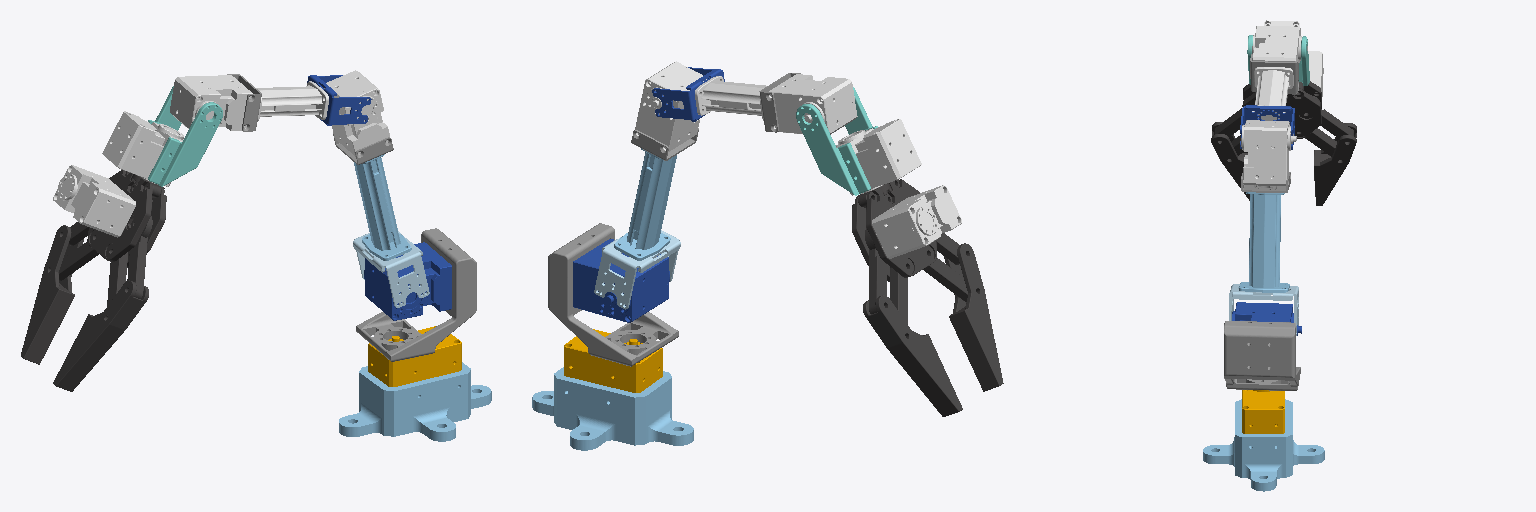
URDF robot description (my_robot):
<?xml version="1.0" ?>
<robot name="my_robot">
  <link name="link0">
    <inertial>
      <origin xyz="-0.000309241 1.065e-09 0.0263888" rpy="0 0 0"/>
      <mass value="0.264096"/>
      <inertia ixx="0.000113185" ixy="-3e-12" ixz="1.00015e-06" iyy="0.000175727" iyz="8e-12" izz="0.000147128"/>
    </inertial>
    <visual>
      <origin xyz="-0.0155 -0 0.0345" rpy="0 -0 1.5708"/>
      <geometry>
        <mesh filename="assets/dummy_dc13_idle.stl"/>
      </geometry>
      <material name="dummy_dc13_idle_material">
        <color rgba="0.980392 0.713725 0.00392157 1"/>
      </material>
    </visual>
    <collision>
      <origin xyz="-0.0155 -0 0.0345" rpy="0 -0 1.5708"/>
      <geometry>
        <mesh filename="assets/dummy_dc13_idle.stl"/>
      </geometry>
    </collision>
    <visual>
      <origin xyz="-0.0155 0 0.0345" rpy="0 -0 1.5708"/>
      <geometry>
        <mesh filename="assets/part_2.stl"/>
      </geometry>
      <material name="part_2_material">
        <color rgba="0.615686 0.811765 0.929412 1"/>
      </material>
    </visual>
    <collision>
      <origin xyz="-0.0155 0 0.0345" rpy="0 -0 1.5708"/>
      <geometry>
        <mesh filename="assets/part_2.stl"/>
      </geometry>
    </collision>
  </link>
  <link name="link1">
    <inertial>
      <origin xyz="-0.0186967 -0.000784302 -0.0430186" rpy="0 0 0"/>
      <mass value="0.212381"/>
      <inertia ixx="8.79949e-05" ixy="-2.86541e-06" ixz="-8.1322e-06" iyy="0.000118099" iyz="-2.55396e-07" izz="0.000120043"/>
    </inertial>
    <visual>
      <origin xyz="0 -0 0.0245" rpy="-3.14159 -0 1.64104"/>
      <geometry>
        <mesh filename="assets/part_3.stl"/>
      </geometry>
      <material name="part_3_material">
        <color rgba="0.647059 0.647059 0.647059 1"/>
      </material>
    </visual>
    <collision>
      <origin xyz="0 -0 0.0245" rpy="-3.14159 -0 1.64104"/>
      <geometry>
        <mesh filename="assets/part_3.stl"/>
      </geometry>
    </collision>
    <visual>
      <origin xyz="0 -0 0.0245" rpy="-3.14159 -0 1.64104"/>
      <geometry>
        <mesh filename="assets/dummy_dc13_idle__2.stl"/>
      </geometry>
      <material name="dummy_dc13_idle_2_material">
        <color rgba="0.231373 0.380392 0.705882 1"/>
      </material>
    </visual>
    <collision>
      <origin xyz="0 -0 0.0245" rpy="-3.14159 -0 1.64104"/>
      <geometry>
        <mesh filename="assets/dummy_dc13_idle__2.stl"/>
      </geometry>
    </collision>
  </link>
  <link name="link2">
    <inertial>
      <origin xyz="0.0242489 -0.110606 0.0241592" rpy="0 0 0"/>
      <mass value="0.122875"/>
      <inertia ixx="0.000264139" ixy="5.25439e-05" ixz="2.60031e-07" iyy="3.60144e-05" iyz="-1.18207e-06" izz="0.000266476"/>
    </inertial>
    <visual>
      <origin xyz="0.0281605 -0.128449 0.024544" rpy="-1.78679 1.5708 0"/>
      <geometry>
        <mesh filename="assets/fr12_s102_k.stl"/>
      </geometry>
      <material name="fr12_s102_k_material">
        <color rgba="0.647059 0.647059 0.647059 1"/>
      </material>
    </visual>
    <collision>
      <origin xyz="0.0281605 -0.128449 0.024544" rpy="-1.78679 1.5708 0"/>
      <geometry>
        <mesh filename="assets/fr12_s102_k.stl"/>
      </geometry>
    </collision>
    <visual>
      <origin xyz="0.0326611 -0.148961 0.004544" rpy="-3.14159 -0 0.215989"/>
      <geometry>
        <mesh filename="assets/dummy_dc12.stl"/>
      </geometry>
      <material name="dummy_dc12_material">
        <color rgba="0.917647 0.917647 0.917647 1"/>
      </material>
    </visual>
    <collision>
      <origin xyz="0.0326611 -0.148961 0.004544" rpy="-3.14159 -0 0.215989"/>
      <geometry>
        <mesh filename="assets/dummy_dc12.stl"/>
      </geometry>
    </collision>
    <visual>
      <origin xyz="0.0299821 -0.136752 0.024544" rpy="-0.215989 1.5708 0"/>
      <geometry>
        <mesh filename="assets/part_2__2.stl"/>
      </geometry>
      <material name="part_2_2_material">
        <color rgba="0.615686 0.811765 0.929412 1"/>
      </material>
    </visual>
    <collision>
      <origin xyz="0.0299821 -0.136752 0.024544" rpy="-0.215989 1.5708 0"/>
      <geometry>
        <mesh filename="assets/part_2__2.stl"/>
      </geometry>
    </collision>
    <visual>
      <origin xyz="0 -0 0.0245" rpy="2.9256 1.5708 0"/>
      <geometry>
        <mesh filename="assets/fr13_h101_k.stl"/>
      </geometry>
      <material name="fr13_h101_k_material">
        <color rgba="0.768627 0.886275 0.952941 1"/>
      </material>
    </visual>
    <collision>
      <origin xyz="0 -0 0.0245" rpy="2.9256 1.5708 0"/>
      <geometry>
        <mesh filename="assets/fr13_h101_k.stl"/>
      </geometry>
    </collision>
  </link>
  <link name="link3">
    <inertial>
      <origin xyz="0.0971416 0 0.0185718" rpy="0 0 0"/>
      <mass value="0.108493"/>
      <inertia ixx="1.79972e-05" ixy="0" ixz="6.83803e-07" iyy="0.000118945" iyz="-0" izz="0.000113634"/>
    </inertial>
    <visual>
      <origin xyz="0.1025 0 0.019" rpy="3.14159 1.5708 0"/>
      <geometry>
        <mesh filename="assets/part_2__3.stl"/>
      </geometry>
      <material name="part_2_3_material">
        <color rgba="0.917647 0.917647 0.917647 1"/>
      </material>
    </visual>
    <collision>
      <origin xyz="0.1025 0 0.019" rpy="3.14159 1.5708 0"/>
      <geometry>
        <mesh filename="assets/part_2__3.stl"/>
      </geometry>
    </collision>
    <visual>
      <origin xyz="0.1235 0 -0.001" rpy="3.14159 -0 1.5708"/>
      <geometry>
        <mesh filename="assets/dummy_dc12.stl"/>
      </geometry>
      <material name="dummy_dc12_2_material">
        <color rgba="0.917647 0.917647 0.917647 1"/>
      </material>
    </visual>
    <collision>
      <origin xyz="0.1235 0 -0.001" rpy="3.14159 -0 1.5708"/>
      <geometry>
        <mesh filename="assets/dummy_dc12.stl"/>
      </geometry>
    </collision>
    <visual>
      <origin xyz="-0 0 0.019" rpy="1.5708 1.5708 0"/>
      <geometry>
        <mesh filename="assets/fr12_h101_k.stl"/>
      </geometry>
      <material name="fr12_h101_k_material">
        <color rgba="0.231373 0.380392 0.705882 1"/>
      </material>
    </visual>
    <collision>
      <origin xyz="-0 0 0.019" rpy="1.5708 1.5708 0"/>
      <geometry>
        <mesh filename="assets/fr12_h101_k.stl"/>
      </geometry>
    </collision>
    <visual>
      <origin xyz="0.1025 0 0.019" rpy="3.14159 1.5708 0"/>
      <geometry>
        <mesh filename="assets/fr12_s102_k.stl"/>
      </geometry>
      <material name="fr12_s102_k_2_material">
        <color rgba="0.647059 0.647059 0.647059 1"/>
      </material>
    </visual>
    <collision>
      <origin xyz="0.1025 0 0.019" rpy="3.14159 1.5708 0"/>
      <geometry>
        <mesh filename="assets/fr12_s102_k.stl"/>
      </geometry>
    </collision>
  </link>
  <link name="link4">
    <inertial>
      <origin xyz="0.0309565 0.0323173 0.01895" rpy="0 0 0"/>
      <mass value="0.0954853"/>
      <inertia ixx="2.3308e-05" ixy="-1.60309e-06" ixz="1.4e-11" iyy="3.0851e-05" iyz="5e-12" izz="3.31782e-05"/>
    </inertial>
    <visual>
      <origin xyz="0.0297344 0.0557955 0.018825" rpy="1.21601 -1.5708 0"/>
      <geometry>
        <mesh filename="assets/j4_j5_mirrored.stl"/>
      </geometry>
      <material name="j4_j5_mirrored_material">
        <color rgba="0.537255 0.854902 0.827451 1"/>
      </material>
    </visual>
    <collision>
      <origin xyz="0.0297344 0.0557955 0.018825" rpy="1.21601 -1.5708 0"/>
      <geometry>
        <mesh filename="assets/j4_j5_mirrored.stl"/>
      </geometry>
    </collision>
    <visual>
      <origin xyz="0.0297344 0.0557955 -0.027075" rpy="1.21601 -1.5708 0"/>
      <geometry>
        <mesh filename="assets/j4_j5_mirrored__2.stl"/>
      </geometry>
      <material name="j4_j5_mirrored_2_material">
        <color rgba="0.537255 0.854902 0.827451 1"/>
      </material>
    </visual>
    <collision>
      <origin xyz="0.0297344 0.0557955 -0.027075" rpy="1.21601 -1.5708 0"/>
      <geometry>
        <mesh filename="assets/j4_j5_mirrored__2.stl"/>
      </geometry>
    </collision>
    <visual>
      <origin xyz="0.0297344 0.0557955 0.01895" rpy="-1.21601 1.5708 0"/>
      <geometry>
        <mesh filename="assets/dummy_dc12.stl"/>
      </geometry>
      <material name="dummy_dc12_3_material">
        <color rgba="0.917647 0.917647 0.917647 1"/>
      </material>
    </visual>
    <collision>
      <origin xyz="0.0297344 0.0557955 0.01895" rpy="-1.21601 1.5708 0"/>
      <geometry>
        <mesh filename="assets/dummy_dc12.stl"/>
      </geometry>
    </collision>
  </link>
  <link name="link5">
    <inertial>
      <origin xyz="0.000326575 -0.00076982 -0.0297451" rpy="0 0 0"/>
      <mass value="0.0294484"/>
      <inertia ixx="1.54147e-05" ixy="-5.6056e-08" ixz="2.451e-09" iyy="9.74052e-06" iyz="-5.779e-09" izz="8.03326e-06"/>
    </inertial>
    <visual>
      <origin xyz="0 -0 -0" rpy="-3.14159 -0 1.59462"/>
      <geometry>
        <mesh filename="assets/p01_05_base.stl"/>
      </geometry>
      <material name="p01_05_base_material">
        <color rgba="0.32549 0.317647 0.317647 1"/>
      </material>
    </visual>
    <collision>
      <origin xyz="0 -0 -0" rpy="-3.14159 -0 1.59462"/>
      <geometry>
        <mesh filename="assets/p01_05_base.stl"/>
      </geometry>
    </collision>
    <visual>
      <origin xyz="-4.99858e-05 -1.19092e-06 -0" rpy="-3.14159 -0 1.59462"/>
      <geometry>
        <mesh filename="assets/p01_07_body.stl"/>
      </geometry>
      <material name="p01_07_body_material">
        <color rgba="0.32549 0.317647 0.317647 1"/>
      </material>
    </visual>
    <collision>
      <origin xyz="-4.99858e-05 -1.19092e-06 -0" rpy="-3.14159 -0 1.59462"/>
      <geometry>
        <mesh filename="assets/p01_07_body.stl"/>
      </geometry>
    </collision>
    <visual>
      <origin xyz="4.99858e-05 1.19092e-06 -0" rpy="-3.14159 -0 1.59462"/>
      <geometry>
        <mesh filename="assets/p01_06_body_motor.stl"/>
      </geometry>
      <material name="p01_06_body_motor_material">
        <color rgba="0.32549 0.317647 0.317647 1"/>
      </material>
    </visual>
    <collision>
      <origin xyz="4.99858e-05 1.19092e-06 -0" rpy="-3.14159 -0 1.59462"/>
      <geometry>
        <mesh filename="assets/p01_06_body_motor.stl"/>
      </geometry>
    </collision>
    <visual>
      <origin xyz="-0.0234485 0.0269491 -0.09265" rpy="3.14159 -0 0.0238207"/>
      <geometry>
        <mesh filename="assets/dummy_dc12__2.stl"/>
      </geometry>
      <material name="dummy_dc12_4_material">
        <color rgba="0.917647 0.917647 0.917647 1"/>
      </material>
    </visual>
    <collision>
      <origin xyz="-0.0234485 0.0269491 -0.09265" rpy="3.14159 -0 0.0238207"/>
      <geometry>
        <mesh filename="assets/dummy_dc12__2.stl"/>
      </geometry>
    </collision>
  </link>
  <link name="link6">
    <inertial>
      <origin xyz="-0.00148139 -0.0131112 -0.00445993" rpy="0 0 0"/>
      <mass value="0.00659741"/>
      <inertia ixx="2.745e-06" ixy="1.87617e-07" ixz="5.675e-09" iyy="2.4936e-07" iyz="5.7184e-08" izz="2.90928e-06"/>
    </inertial>
    <visual>
      <origin xyz="-0.019 0.03 -0.00385" rpy="1.5708 -0 -0"/>
      <geometry>
        <mesh filename="assets/p01_01_gearlink_motor.stl"/>
      </geometry>
      <material name="p01_01_gearlink_motor_material">
        <color rgba="0.32549 0.317647 0.317647 1"/>
      </material>
    </visual>
    <collision>
      <origin xyz="-0.019 0.03 -0.00385" rpy="1.5708 -0 -0"/>
      <geometry>
        <mesh filename="assets/p01_01_gearlink_motor.stl"/>
      </geometry>
    </collision>
  </link>
  <joint name="joint_6" type="revolute">
    <origin xyz="0.00349633 0.0190887 -0.03" rpy="1.5708 -0.663391 1.59462"/>
    <parent link="link5"/>
    <child link="link6"/>
    <axis xyz="0 0 1"/>
    <limit effort="10" velocity="10" lower="-0.488858" upper="0.907405"/>
  </joint>
  <link name="link7">
    <inertial>
      <origin xyz="-0.00711347 0.0116656 -0.00388399" rpy="0 0 0"/>
      <mass value="0.00640183"/>
      <inertia ixx="1.57052e-06" ixy="1.237e-06" ixz="-8.3e-11" iyy="1.34561e-06" iyz="-4.52e-10" izz="2.86735e-06"/>
    </inertial>
    <visual>
      <origin xyz="0.033444 -0.0119372 -0.00385" rpy="-1.5708 -0 0.663391"/>
      <geometry>
        <mesh filename="assets/p01_02_gearlink.stl"/>
      </geometry>
      <material name="p01_02_gearlink_material">
        <color rgba="0.32549 0.317647 0.317647 1"/>
      </material>
    </visual>
    <collision>
      <origin xyz="0.033444 -0.0119372 -0.00385" rpy="-1.5708 -0 0.663391"/>
      <geometry>
        <mesh filename="assets/p01_02_gearlink.stl"/>
      </geometry>
    </collision>
  </link>
  <joint name="joint_6_mimic_gear" type="revolute">
    <origin xyz="-0.00349633 -0.0190887 -0.03" rpy="-1.5708 -0 1.59462"/>
    <parent link="link5"/>
    <child link="link7"/>
    <axis xyz="0 0 1"/>
    <limit effort="10" velocity="10" lower="-3.141592653589793" upper="3.141592653589793"/>
    <mimic joint="joint_6" multiplier="1.0"/>
  </joint>
  <link name="link9">
    <inertial>
      <origin xyz="0.0153948 -0.0196977 -0.00385" rpy="0 0 0"/>
      <mass value="0.00411112"/>
      <inertia ixx="7.03097e-07" ixy="5.06875e-07" ixz="-0" iyy="4.50699e-07" iyz="-0" izz="1.11342e-06"/>
    </inertial>
    <visual>
      <origin xyz="0.0746144 -0.0751704 -0.00385" rpy="1.5708 -0 -2.4782"/>
      <geometry>
        <mesh filename="assets/p01_03_link.stl"/>
      </geometry>
      <material name="p01_03_link_material">
        <color rgba="0.32549 0.317647 0.317647 1"/>
      </material>
    </visual>
    <collision>
      <origin xyz="0.0746144 -0.0751704 -0.00385" rpy="1.5708 -0 -2.4782"/>
      <geometry>
        <mesh filename="assets/p01_03_link.stl"/>
      </geometry>
    </collision>
  </link>
  <link name="link10">
    <inertial>
      <origin xyz="0.0182041 -0.0092209 0.004" rpy="0 0 0"/>
      <mass value="0.0165615"/>
      <inertia ixx="3.28447e-06" ixy="3.65718e-06" ixz="-0" iyy="6.3257e-06" iyz="0" izz="8.887e-06"/>
    </inertial>
    <visual>
      <origin xyz="-0.047608 0.0953133 0.004" rpy="-1.5708 0 -2.4782"/>
      <geometry>
        <mesh filename="assets/p01_04_finger.stl"/>
      </geometry>
      <material name="p01_04_finger_material">
        <color rgba="0.32549 0.317647 0.317647 1"/>
      </material>
    </visual>
    <collision>
      <origin xyz="-0.047608 0.0953133 0.004" rpy="-1.5708 0 -2.4782"/>
      <geometry>
        <mesh filename="assets/p01_04_finger.stl"/>
      </geometry>
    </collision>
  </link>
  <link name="link6_2">
    <inertial>
      <origin xyz="-0.00148139 0.0368888 -0.00445993" rpy="0 0 0"/>
      <mass value="0.00659741"/>
      <inertia ixx="2.745e-06" ixy="1.87617e-07" ixz="5.675e-09" iyy="2.4936e-07" iyz="5.7184e-08" izz="2.90928e-06"/>
    </inertial>
    <visual>
      <origin xyz="-0.019 0.08 -0.00385" rpy="1.5708 -0 -0"/>
      <geometry>
        <mesh filename="assets/p01_01_gearlink_motor.stl"/>
      </geometry>
      <material name="p01_01_gearlink_motor_2_material">
        <color rgba="0.32549 0.317647 0.317647 1"/>
      </material>
    </visual>
    <collision>
      <origin xyz="-0.019 0.08 -0.00385" rpy="1.5708 -0 -0"/>
      <geometry>
        <mesh filename="assets/p01_01_gearlink_motor.stl"/>
      </geometry>
    </collision>
  </link>
  <joint name="joint_6_mimic_L2" type="revolute">
    <origin xyz="-0.0206236 0.0158325 0" rpy="3.14159 -0 3.14159"/>
    <parent link="link10"/>
    <child link="link6_2"/>
    <axis xyz="0 0 1"/>
    <limit effort="10" velocity="10" lower="-3.141592653589793" upper="3.141592653589793"/>
  </joint>
  <joint name="joint_6_mimic_L3" type="revolute">
    <origin xyz="0.0307896 -0.0393954 -0" rpy="3.14159 -0 -2.4782"/>
    <parent link="link9"/>
    <child link="link10"/>
    <axis xyz="0 0 1"/>
    <limit effort="10" velocity="10" lower="-3.141592653589793" upper="3.141592653589793"/>
  </joint>
  <joint name="joint_6_mimic_L1" type="revolute">
    <origin xyz="0.00365115 0.0125905 -0.0551744" rpy="1.5708 -0 1.59462"/>
    <parent link="link5"/>
    <child link="link9"/>
    <axis xyz="0 0 1"/>
    <limit effort="10" velocity="10" lower="-3.141592653589793" upper="3.141592653589793"/>
  </joint>
  <link name="link8">
    <inertial>
      <origin xyz="-0.0153948 0.0196977 -0.00385" rpy="0 0 0"/>
      <mass value="0.00411112"/>
      <inertia ixx="7.03097e-07" ixy="5.06875e-07" ixz="0" iyy="4.50699e-07" iyz="0" izz="1.11342e-06"/>
    </inertial>
    <visual>
      <origin xyz="-0.0549167 0.0905652 -0.00385" rpy="-1.5708 0 -2.4782"/>
      <geometry>
        <mesh filename="assets/p01_03_link.stl"/>
      </geometry>
      <material name="p01_03_link_2_material">
        <color rgba="0.32549 0.317647 0.317647 1"/>
      </material>
    </visual>
    <collision>
      <origin xyz="-0.0549167 0.0905652 -0.00385" rpy="-1.5708 0 -2.4782"/>
      <geometry>
        <mesh filename="assets/p01_03_link.stl"/>
      </geometry>
    </collision>
  </link>
  <link name="link11">
    <inertial>
      <origin xyz="-0.00866502 0.0184752 0.004" rpy="0 0 0"/>
      <mass value="0.0165615"/>
      <inertia ixx="7.98655e-06" ixy="2.35914e-06" ixz="0" iyy="1.62362e-06" iyz="-0" izz="8.887e-06"/>
    </inertial>
    <visual>
      <origin xyz="-0.0211824 -0.104415 0.004" rpy="-1.5708 0 -0"/>
      <geometry>
        <mesh filename="assets/p01_04_finger.stl"/>
      </geometry>
      <material name="p01_04_finger_2_material">
        <color rgba="0.32549 0.317647 0.317647 1"/>
      </material>
    </visual>
    <collision>
      <origin xyz="-0.0211824 -0.104415 0.004" rpy="-1.5708 0 -0"/>
      <geometry>
        <mesh filename="assets/p01_04_finger.stl"/>
      </geometry>
    </collision>
  </link>
  <link name="link7_2">
    <inertial>
      <origin xyz="0.00157884 -0.0364281 -0.00388399" rpy="0 0 0"/>
      <mass value="0.00640183"/>
      <inertia ixx="2.68558e-06" ixy="1.89731e-07" ixz="-3.44e-10" iyy="2.30542e-07" iyz="-3.05e-10" izz="2.86735e-06"/>
    </inertial>
    <visual>
      <origin xyz="0.019 -0.08 -0.00385" rpy="-1.5708 0 0"/>
      <geometry>
        <mesh filename="assets/p01_02_gearlink.stl"/>
      </geometry>
      <material name="p01_02_gearlink_2_material">
        <color rgba="0.32549 0.317647 0.317647 1"/>
      </material>
    </visual>
    <collision>
      <origin xyz="0.019 -0.08 -0.00385" rpy="-1.5708 0 0"/>
      <geometry>
        <mesh filename="assets/p01_02_gearlink.stl"/>
      </geometry>
    </collision>
  </link>
  <joint name="joint_6_mimic_R2" type="revolute">
    <origin xyz="0.0065 -0.0251744 0" rpy="3.14159 -0 2.4782"/>
    <parent link="link11"/>
    <child link="link7_2"/>
    <axis xyz="0 0 1"/>
    <limit effort="10" velocity="10" lower="-3.141592653589793" upper="3.141592653589793"/>
  </joint>
  <joint name="joint_6_mimic_R3" type="revolute">
    <origin xyz="-0.0307896 0.0393954 -0" rpy="3.14159 0 3.14159"/>
    <parent link="link8"/>
    <child link="link11"/>
    <axis xyz="0 0 1"/>
    <limit effort="10" velocity="10" lower="-3.141592653589793" upper="3.141592653589793"/>
  </joint>
  <joint name="joint_6_mimic_R1" type="revolute">
    <origin xyz="-0.00365115 -0.0125905 -0.0551744" rpy="-1.5708 -0 1.59462"/>
    <parent link="link5"/>
    <child link="link8"/>
    <axis xyz="0 0 1"/>
    <limit effort="10" velocity="10" lower="-3.141592653589793" upper="3.141592653589793"/>
  </joint>
  <joint name="joint_5" type="revolute">
    <origin xyz="0.029387 0.0548578 0.01895" rpy="-1.5708 -0 2.78681"/>
    <parent link="link4"/>
    <child link="link5"/>
    <axis xyz="0 0 1"/>
    <limit effort="10" velocity="10" lower="-1.59462" upper="1.54698"/>
  </joint>
  <joint name="joint_4" type="revolute">
    <origin xyz="0.1235 0 -0" rpy="0 -0 0"/>
    <parent link="link3"/>
    <child link="link4"/>
    <axis xyz="0 0 1"/>
    <limit effort="10" velocity="10" lower="-1.73961" upper="0.354782"/>
  </joint>
  <joint name="joint_3" type="revolute">
    <origin xyz="0.0326611 -0.148961 0.005544" rpy="-0 -0 -0.172343"/>
    <parent link="link2"/>
    <child link="link3"/>
    <axis xyz="0 0 1"/>
    <limit effort="10" velocity="10" lower="-1.70606" upper="0.388333"/>
  </joint>
  <joint name="joint_2" type="revolute">
    <origin xyz="-0.0017197 0.02444 -0.0458276" rpy="1.5708 0 0.0702486"/>
    <parent link="link1"/>
    <child link="link2"/>
    <axis xyz="0 0 1"/>
    <limit effort="10" velocity="10" lower="-0.215989" upper="1.87841"/>
  </joint>
  <joint name="joint_1" type="revolute">
    <origin xyz="-0.0155 -0 0.059" rpy="3.14159 -0 3.14159"/>
    <parent link="link0"/>
    <child link="link1"/>
    <axis xyz="0 0 1"/>
    <limit effort="10" velocity="10" lower="-1.64104" upper="1.50055"/>
  </joint>
</robot>

--- Facts derived from the render (not from the file) ---
The picture shows the robot from 3 angles, left to right: view 1: azimuth 30°, elevation 25°; view 2: azimuth 150°, elevation 25°; view 3: azimuth 270°, elevation 25°; orthographic projection.
Robot: my_robot — 14 links, 13 joints (13 revolute); root link link0; default pose: every joint at zero.
Links seen in each view (by area): view 1: link0, link2, link1, link3, link5, link4, link11, link10, link9, link7_2, link8; view 2: link0, link2, link1, link3, link5, link4, link10, link11, link6, link8, link9; view 3: link2, link0, link1, link3, link5, link10, link11, link4.
Link boxes in pixels (bbox=[...]): link0: bbox=[339, 326, 491, 441]; link2: bbox=[324, 70, 429, 307]; link1: bbox=[356, 228, 476, 361]; link3: bbox=[170, 74, 371, 131]; link5: bbox=[53, 165, 166, 267]; link4: bbox=[102, 86, 222, 186]; link11: bbox=[53, 280, 148, 391]; link10: bbox=[21, 225, 83, 364]; link9: bbox=[59, 241, 98, 280]; link7_2: bbox=[127, 200, 152, 284]; link8: bbox=[107, 252, 127, 305]; link0: bbox=[532, 329, 693, 450]; link2: bbox=[594, 61, 706, 309]; link1: bbox=[548, 223, 678, 366]; link3: bbox=[652, 67, 857, 134]; link5: bbox=[852, 179, 961, 281]; link4: bbox=[796, 87, 921, 195]; link10: bbox=[863, 295, 962, 416]; link11: bbox=[944, 243, 1003, 391]; link6: bbox=[865, 228, 886, 313]; link8: bbox=[923, 258, 967, 302]; link9: bbox=[890, 267, 907, 323]; link2: bbox=[1229, 120, 1298, 335]; link0: bbox=[1203, 390, 1324, 491]; link1: bbox=[1224, 302, 1301, 390]; link3: bbox=[1240, 26, 1307, 149]; link5: bbox=[1242, 51, 1323, 138]; link10: bbox=[1314, 123, 1356, 205]; link11: bbox=[1211, 122, 1249, 200]; link4: bbox=[1247, 20, 1309, 94].
Bounding box of the posed robot: 0.3537 × 0.1205 × 0.2906 m (x, y, z).
Meshes: 20 distinct files referenced, 27 mesh visuals loaded (20 binary STL).